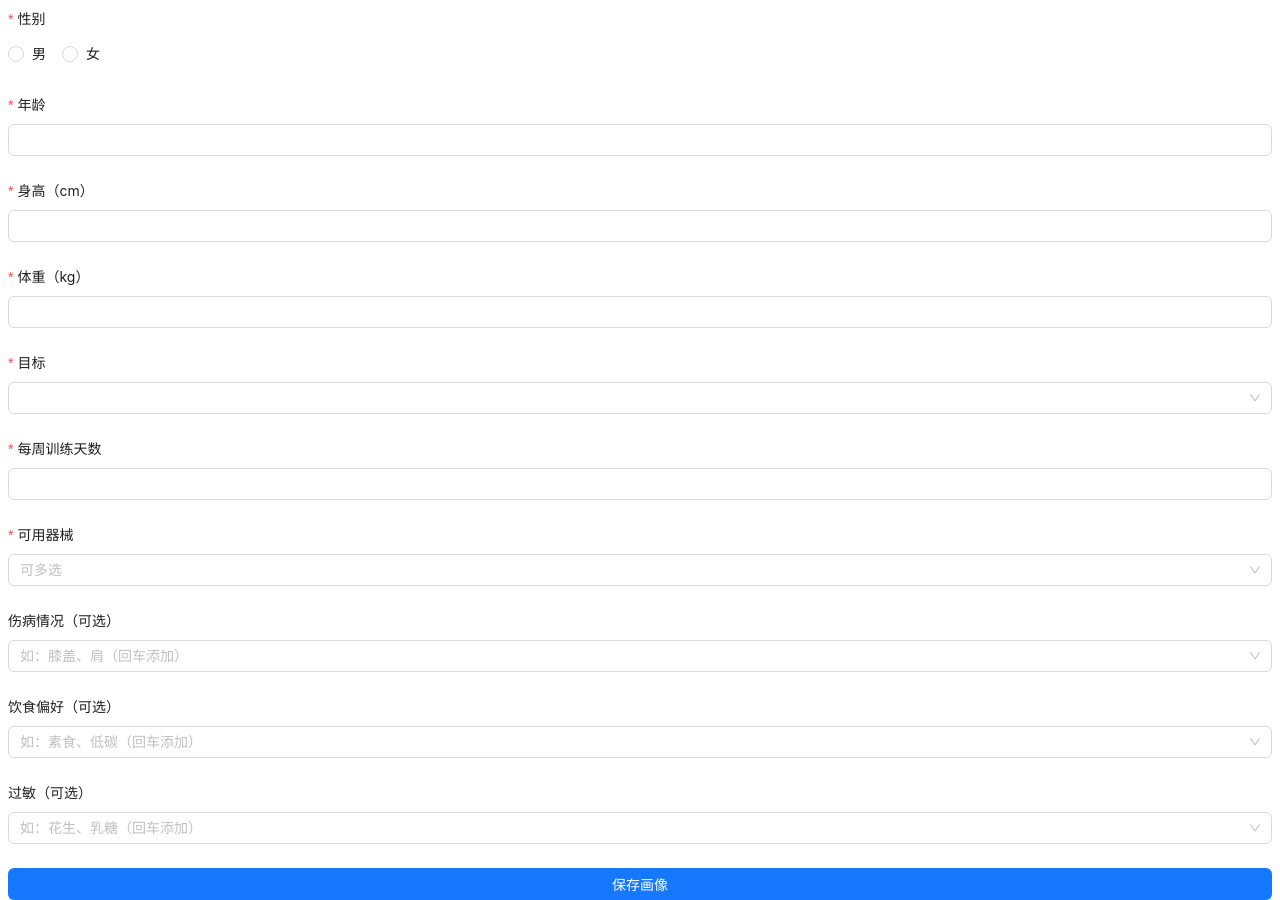
Scenario: ProfileForm 校验 › 缺装备时阻止提交并提示
The image size is (1280, 900).
What coordinates should you click on to do the following:
click the button "保存画像"
I would click on:
 (640, 884)
Its box is [8, 868, 1272, 899].
(page scrolled)
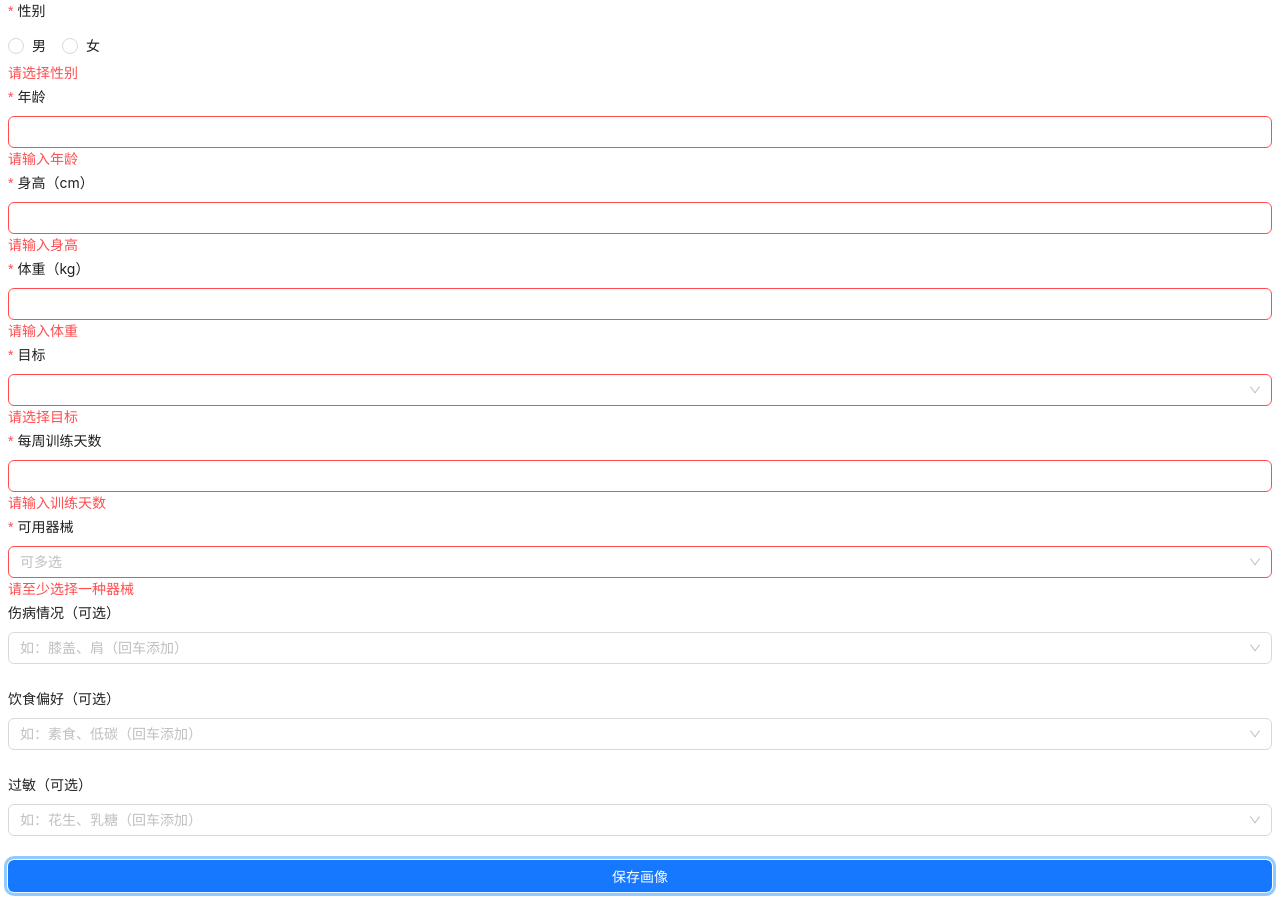
Check: the text "请至少选择一种器械" is shown, box [8, 580, 134, 597]
